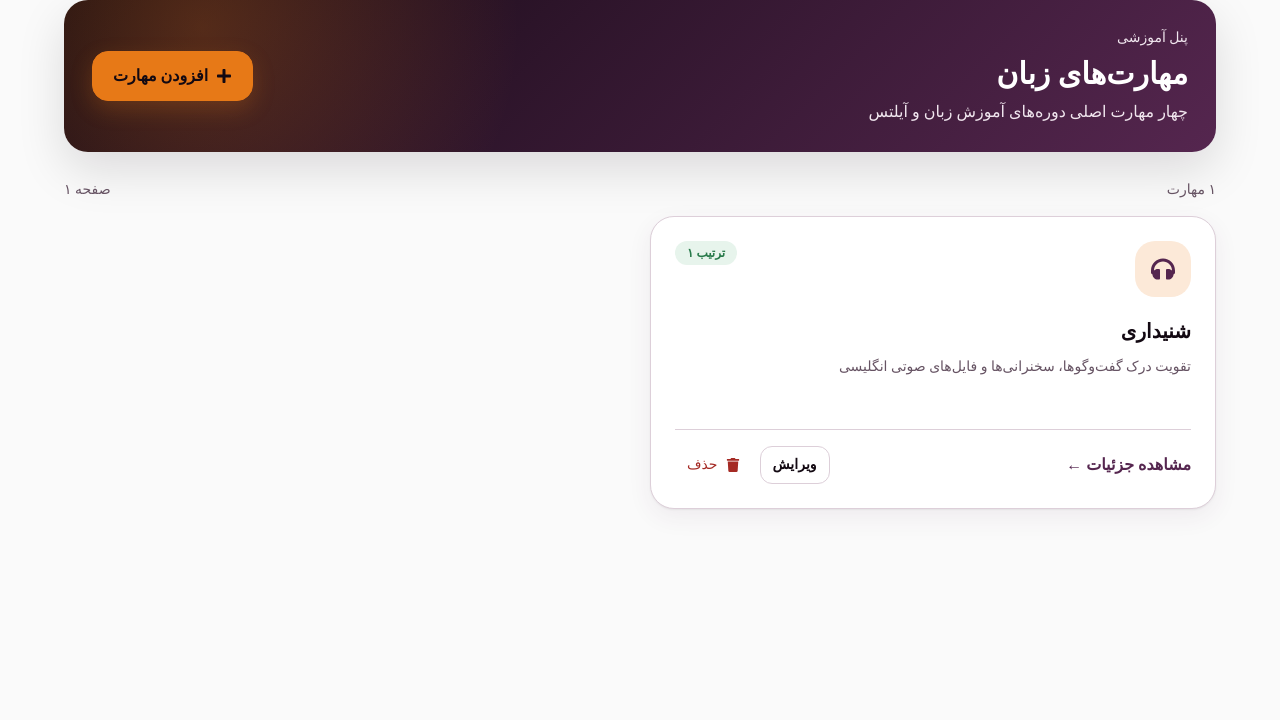
Test: SkillsDashboard delete › asks in a dialog, not the browser's confirm box, and deletes only when confirmed
Click the button "حذف".
click(713, 465)  # box [675, 447, 752, 483]
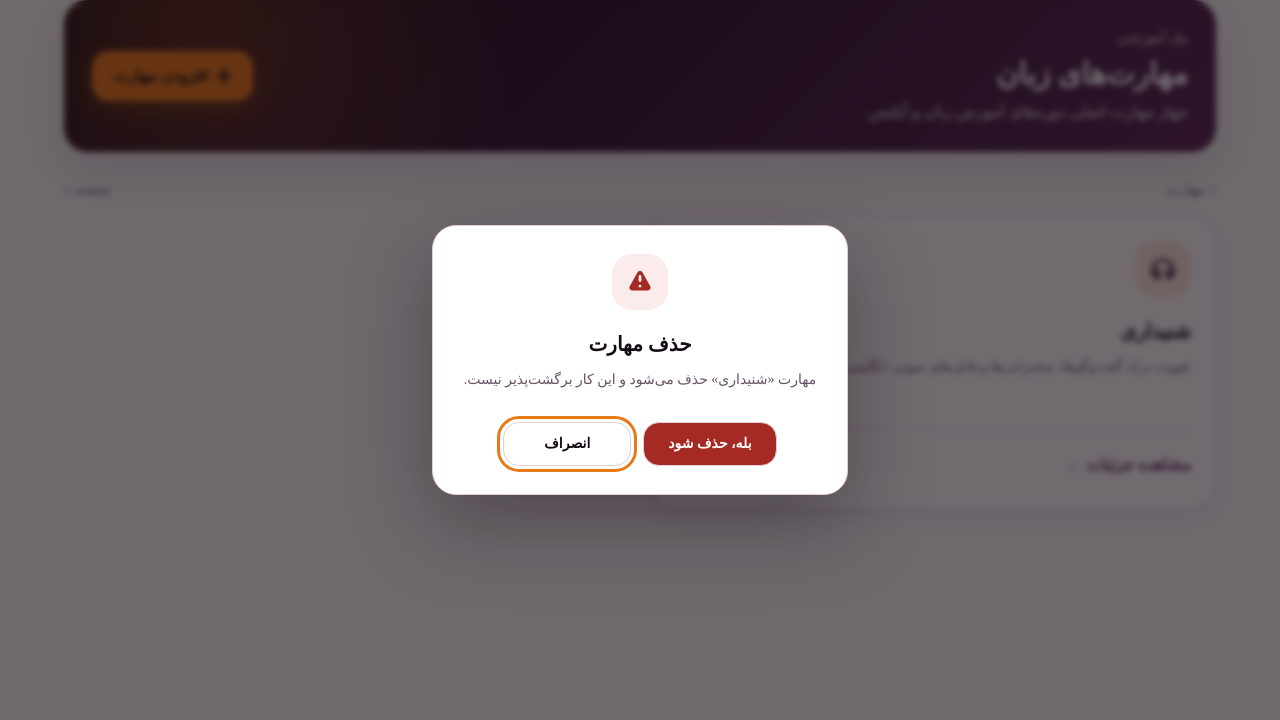
Click the button "انصراف".
click(567, 444)  # box [503, 422, 631, 466]
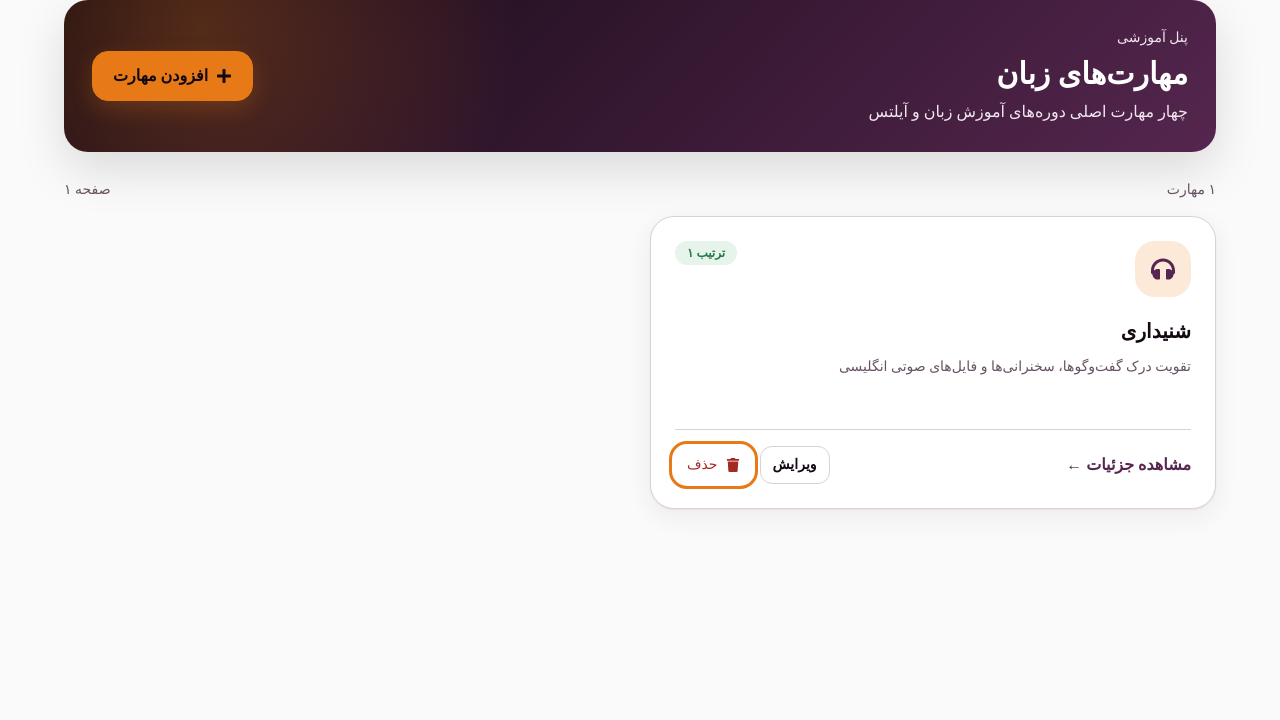
Expected: the dialog is gone
Click the button "حذف".
click(713, 465)  # box [675, 447, 752, 483]
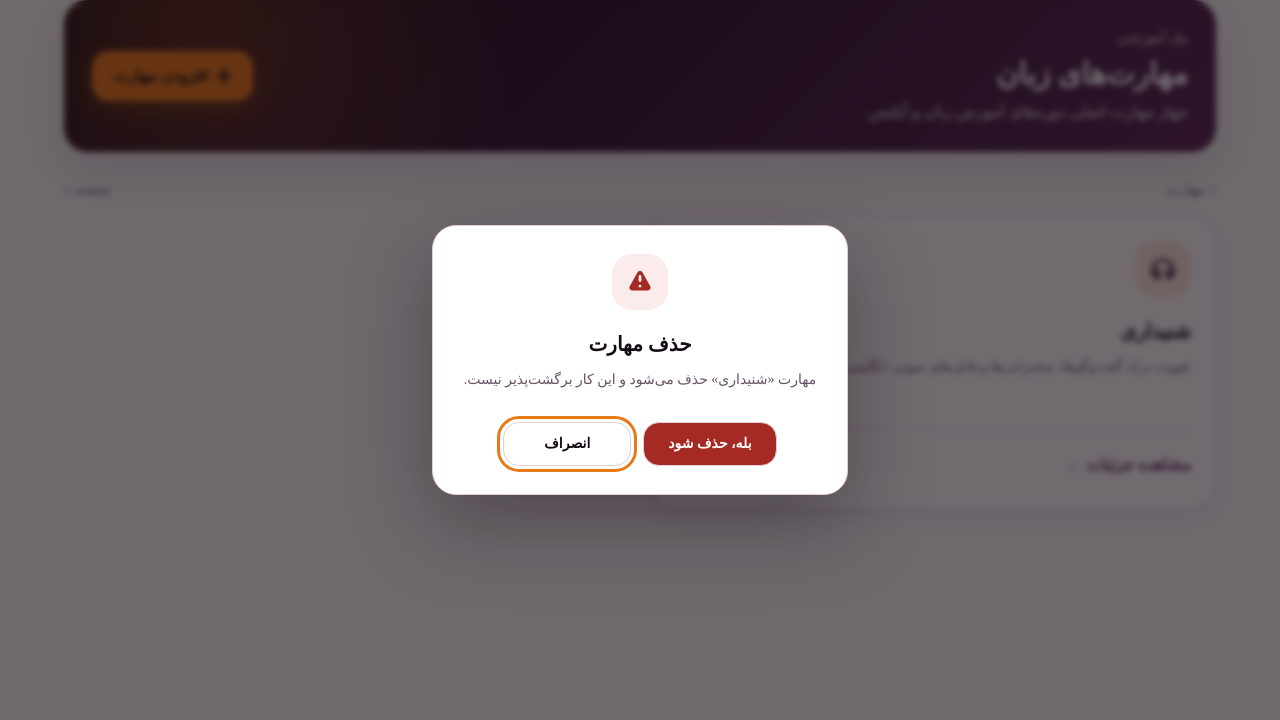
Click the button "بله، حذف شود".
click(710, 444)  # box [643, 422, 777, 466]
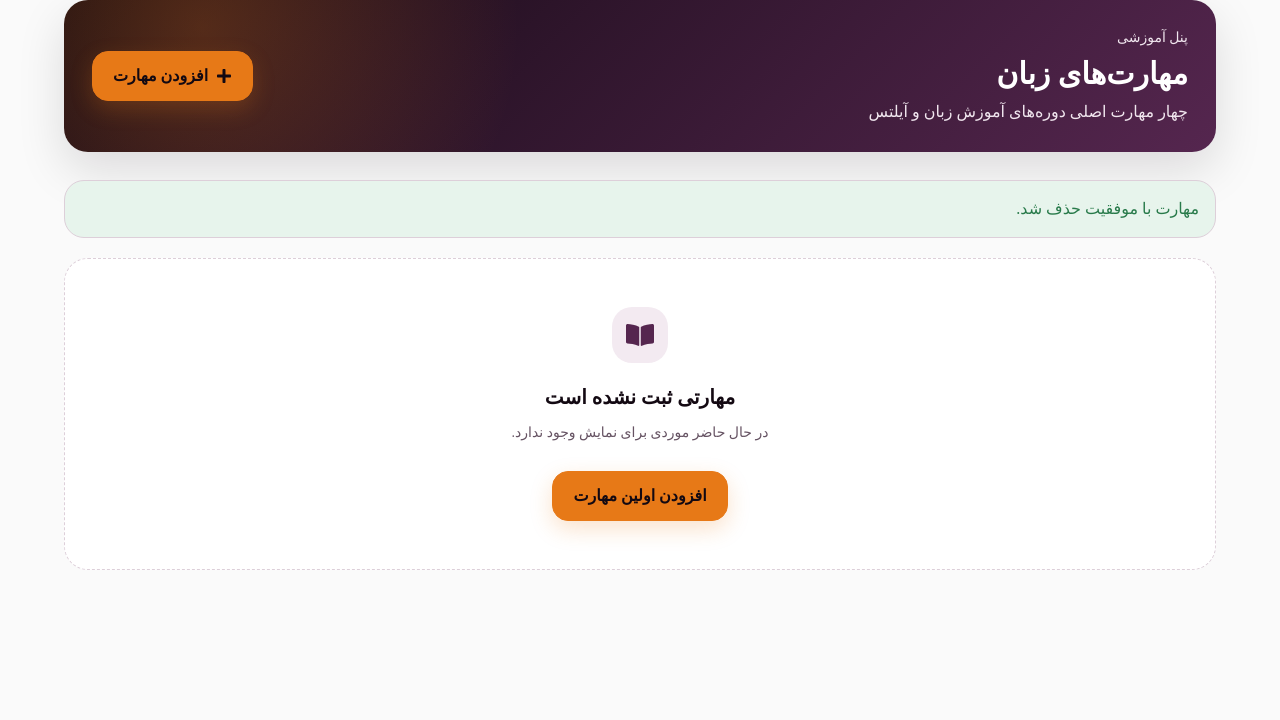
Expected: the dialog is gone
